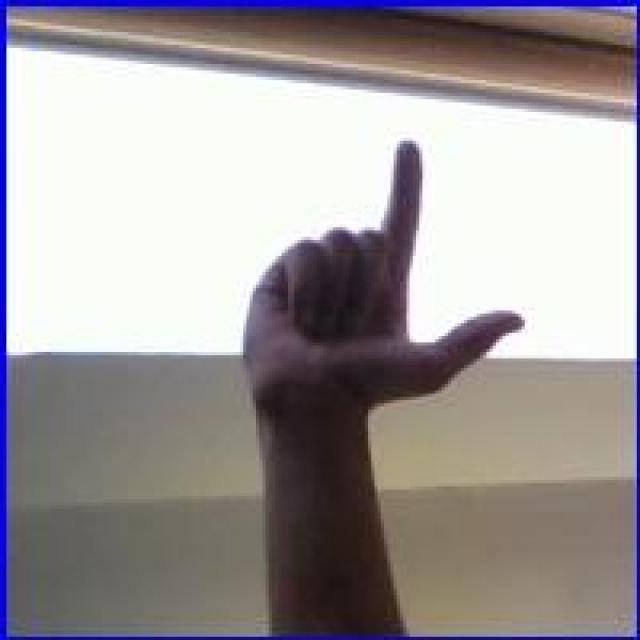L: (240, 134, 531, 422)
